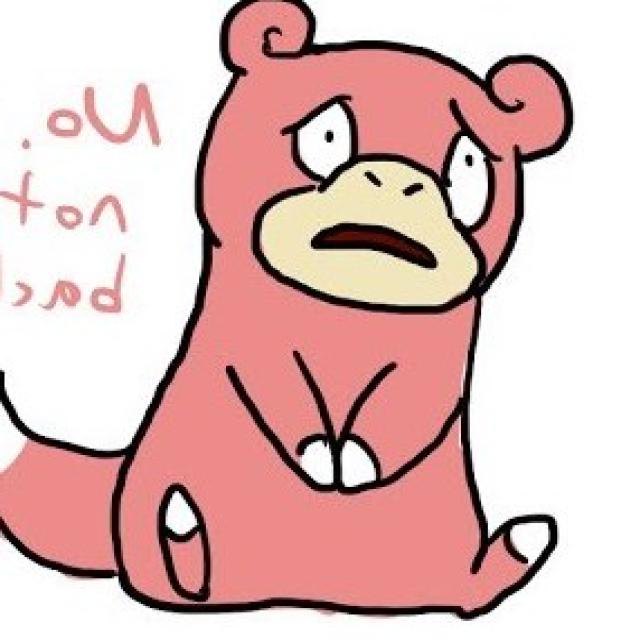Slowpoke: (111, 40, 573, 614)
